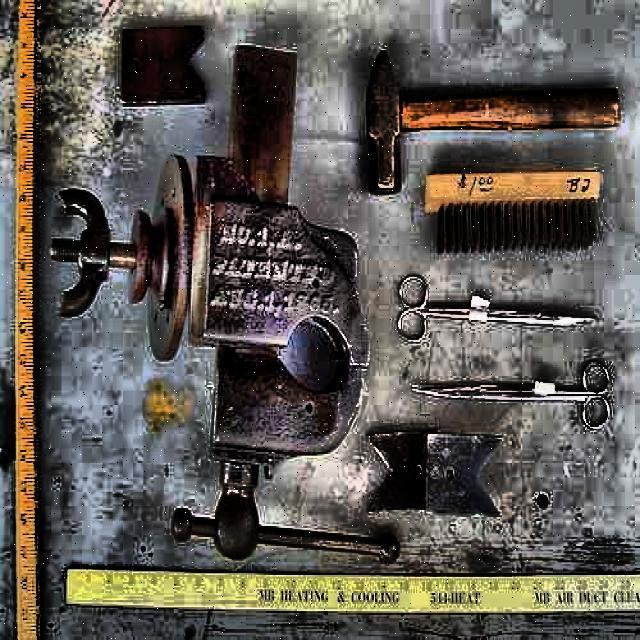hammer: (367, 48, 625, 196)
